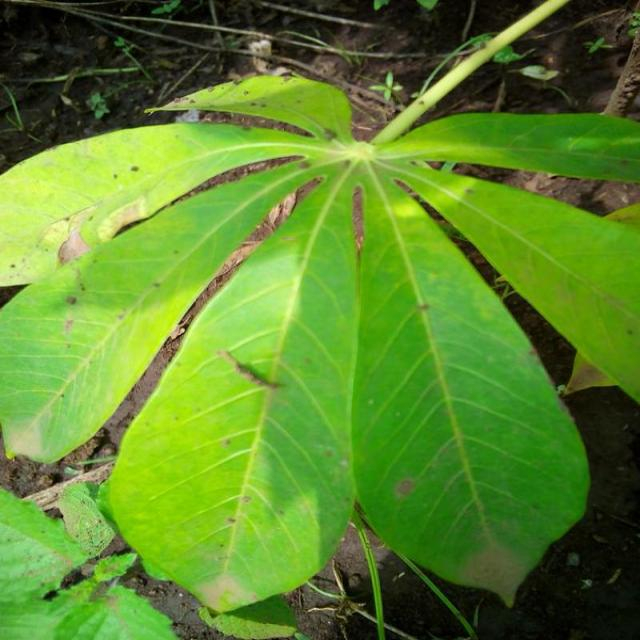cassava leaf: (2, 18, 640, 618), (101, 157, 360, 613), (351, 165, 592, 608)
